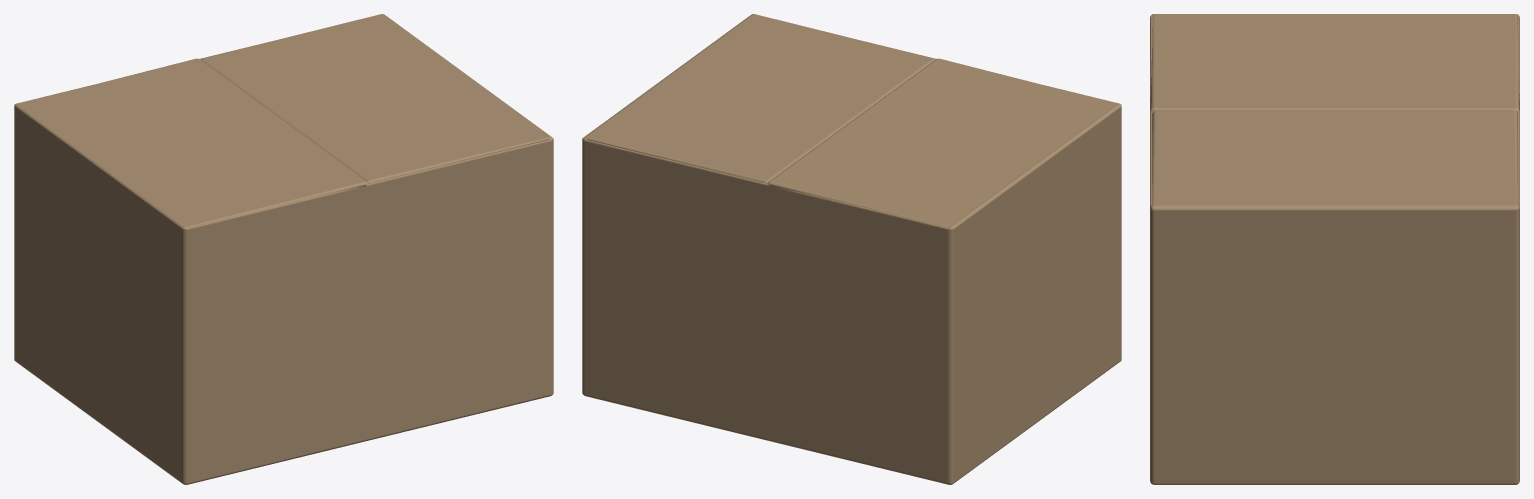
File: SmallBox.glb
3 renders of one model, left to right at view 1: azimuth 30°, elevation 25°; view 2: azimuth 150°, elevation 25°; view 3: azimuth 270°, elevation 25°, orthographic. The views are drawn at different scales.
Parts seen in each view (by area): view 1: Cube; view 2: Cube; view 3: Cube.
Boxes of the visible parts, x1,y1,x2,y2 form: Cube: [14, 14, 553, 484]; Cube: [582, 14, 1121, 484]; Cube: [1150, 14, 1519, 484].
Bounding box in the file's own units: 0.381 × 0.2544 × 0.3048.
